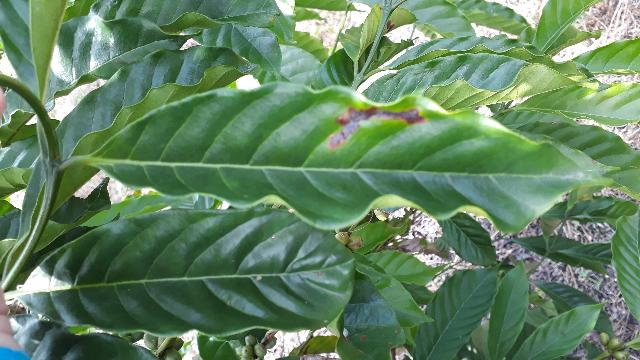red_spider_mite: (88, 81, 613, 233)
